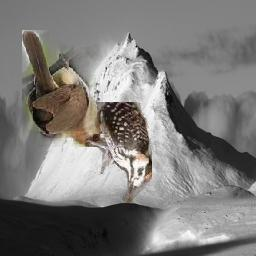Cuckoo: (22, 31, 120, 148)
Woodpecker: (86, 103, 153, 204)
